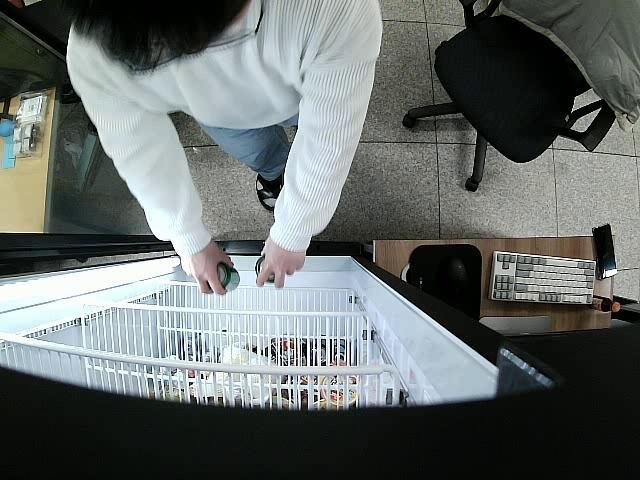12_chilsungCider: (210, 260, 241, 294), (256, 257, 274, 282)
